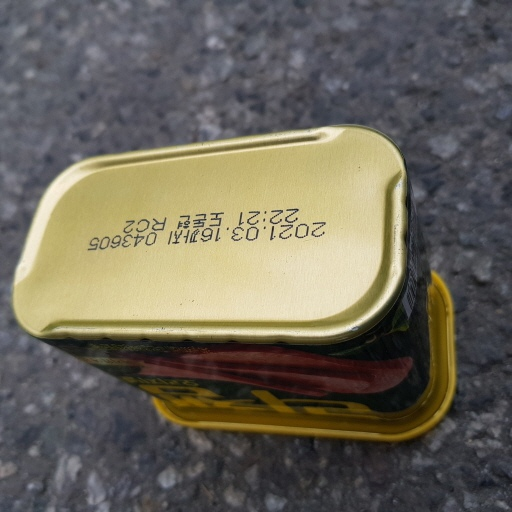Metal_2: (11, 121, 457, 444)
